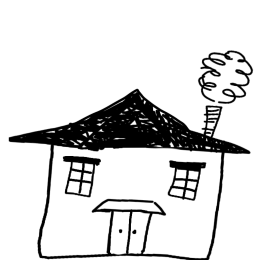bottom_placed_house: (3, 1, 260, 260)
closed_window: (59, 147, 105, 202), (164, 156, 207, 208)
door: (102, 206, 158, 260)
shaded_roof: (4, 78, 257, 158)
smoking_chimney: (190, 40, 252, 144)
wall: (30, 137, 231, 260)
